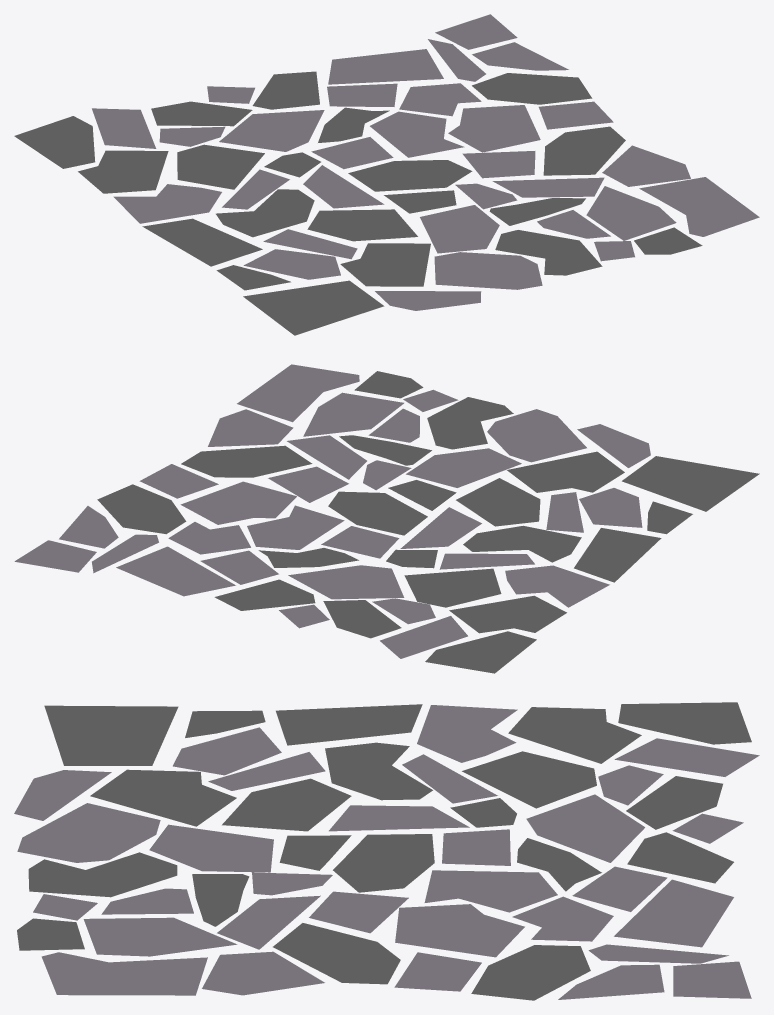
Rendered from road_short_2.fbx.
3 renders of one model, top to bottom at view 1: azimuth 30°, elevation 25°; view 2: azimuth 150°, elevation 25°; view 3: azimuth 270°, elevation 25°, orthographic. The views are drawn at different scales.
Parts seen in each view (by area): view 1: road_short.001; view 2: road_short.001; view 3: road_short.001.
Boxes of the visible parts, left/top/right/bottom form: road_short.001: left=14, top=14, right=759, bottom=335; road_short.001: left=14, top=364, right=759, bottom=673; road_short.001: left=14, top=702, right=759, bottom=1000.
Size of the model in its own units: 138 by 0.2333 by 146.
